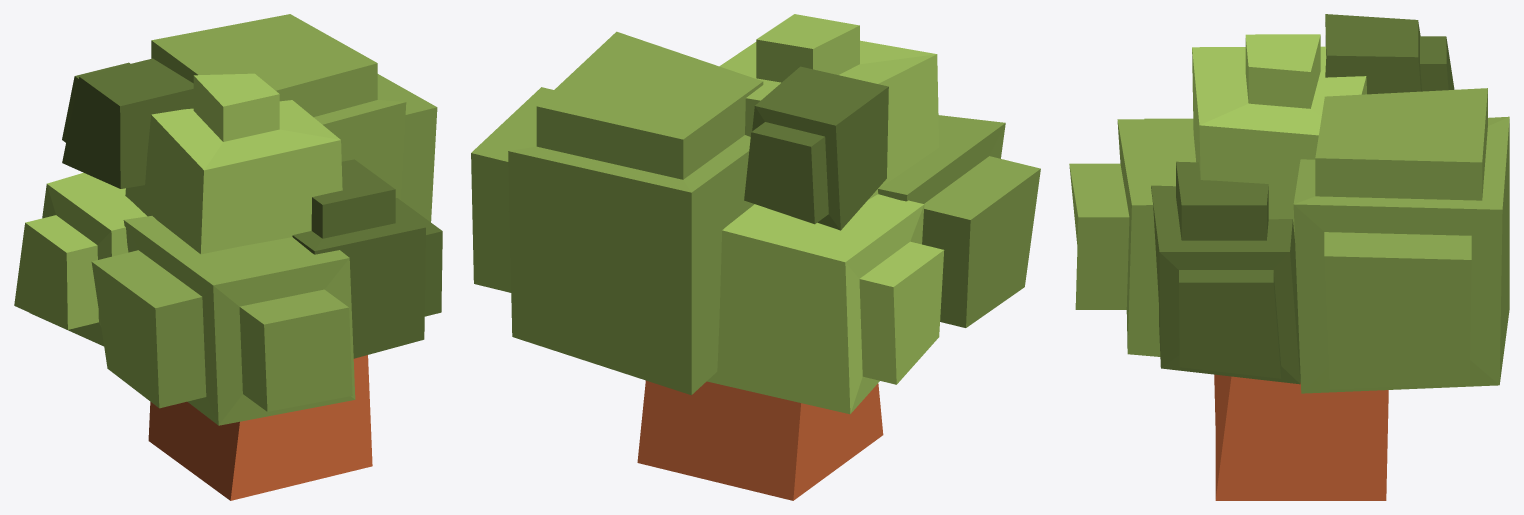
File: shrub1.fbx
3 renders of one model, left to right at view 1: azimuth 30°, elevation 25°; view 2: azimuth 150°, elevation 25°; view 3: azimuth 270°, elevation 25°, orthographic. The views are drawn at different scales.
Parts seen in each view (by area): view 1: pCube17, pCube22, pCube18, pCube19, pCube16, pCube21, pCube20; view 2: pCube18, pCube21, pCube16, pCube17, pCube20, pCube22; view 3: pCube18, pCube19, pCube16, pCube22, pCube17, pCube20.
Part boxes in pixels (left/top/right/bottom): pCube17: left=91, top=216, right=355, bottom=425; pCube22: left=125, top=73, right=342, bottom=254; pCube18: left=151, top=14, right=437, bottom=221; pCube19: left=292, top=159, right=442, bottom=358; pCube16: left=148, top=355, right=372, bottom=500; pCube21: left=14, top=172, right=146, bottom=346; pCube20: left=62, top=58, right=193, bottom=188; pCube18: left=471, top=31, right=763, bottom=395; pCube21: left=707, top=194, right=944, bottom=414; pCube16: left=637, top=380, right=883, bottom=500; pCube17: left=878, top=115, right=1040, bottom=327; pCube20: left=744, top=66, right=888, bottom=230; pCube22: left=719, top=14, right=939, bottom=199; pCube18: left=1293, top=88, right=1509, bottom=393; pCube19: left=1151, top=161, right=1300, bottom=384; pCube16: left=1214, top=374, right=1388, bottom=500; pCube22: left=1192, top=34, right=1366, bottom=238; pCube17: left=1069, top=118, right=1195, bottom=356; pCube20: left=1325, top=14, right=1454, bottom=94.
Size of the model in its own units: 86.71 by 85.53 by 85.05.
